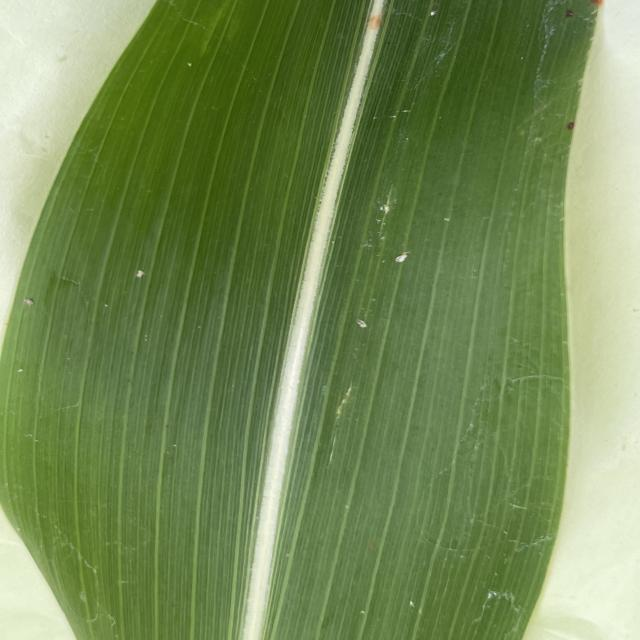millet_healthy: (19, 0, 569, 640)
